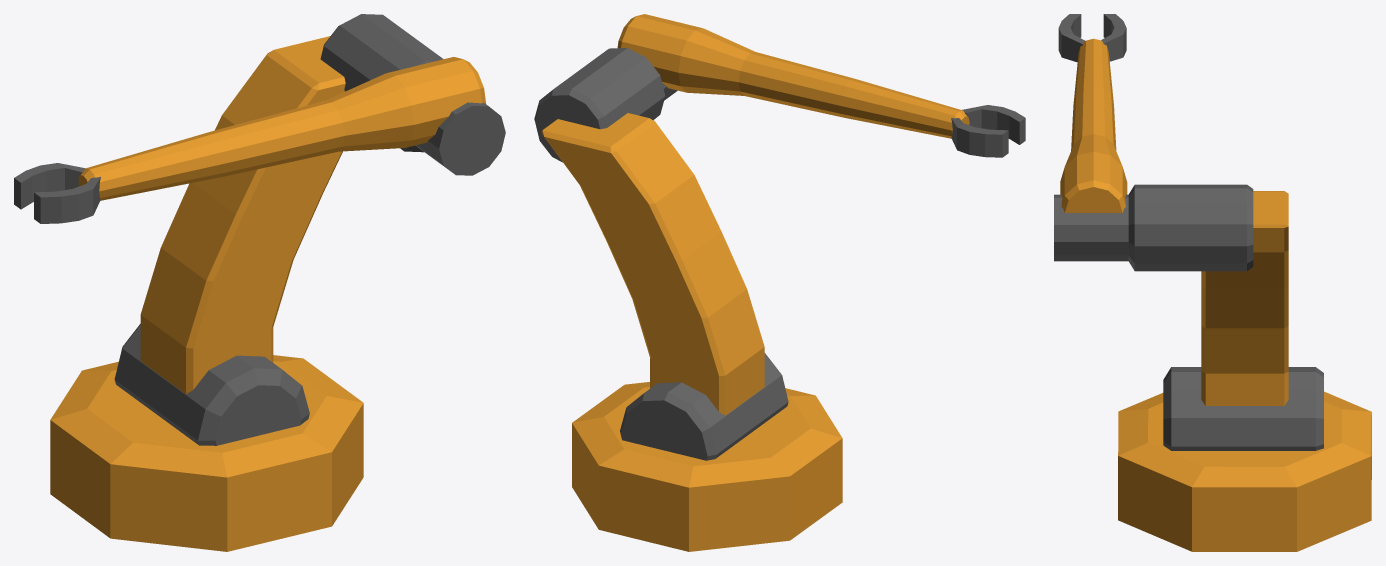
The model's file is RobotArm.fbx.
The picture shows the model from 3 angles, left to right: view 1: azimuth 30°, elevation 25°; view 2: azimuth 150°, elevation 25°; view 3: azimuth 270°, elevation 25°; orthographic projection. The views are drawn at different scales.
Parts seen in each view (by area): view 1: Cylinder, Cube, Cylinder.002, Cylinder.003, Cylinder.001, Cube.002, Cube.001; view 2: Cube, Cylinder, Cylinder.002, Cylinder.003, Cylinder.001, Cube.001, Cube.002; view 3: Cylinder, Cylinder.001, Cube, Cylinder.003, Cylinder.002, Cube.002, Cube.001.
Part boxes in pixels (x1,y1,x2,y2): Cylinder: (50,355,363,551); Cube: (140,36,345,393); Cylinder.002: (78,57,486,200); Cylinder.003: (114,324,309,445); Cylinder.001: (320,14,505,175); Cube.002: (34,176,100,223); Cube.001: (14,163,84,209); Cube: (541,113,764,415); Cylinder: (572,382,842,551); Cylinder.002: (617,14,969,138); Cylinder.003: (620,353,788,460); Cylinder.001: (534,48,677,162); Cube.001: (951,118,1008,157); Cube.002: (962,105,1025,144); Cylinder: (1118,391,1371,551); Cylinder.001: (1054,184,1253,271); Cube: (1201,191,1288,405); Cylinder.003: (1163,367,1323,450); Cylinder.002: (1060,38,1127,212); Cube.002: (1058,14,1084,62); Cube.001: (1101,14,1126,61).
Size of the model in its own units: 385 by 355 by 262.
